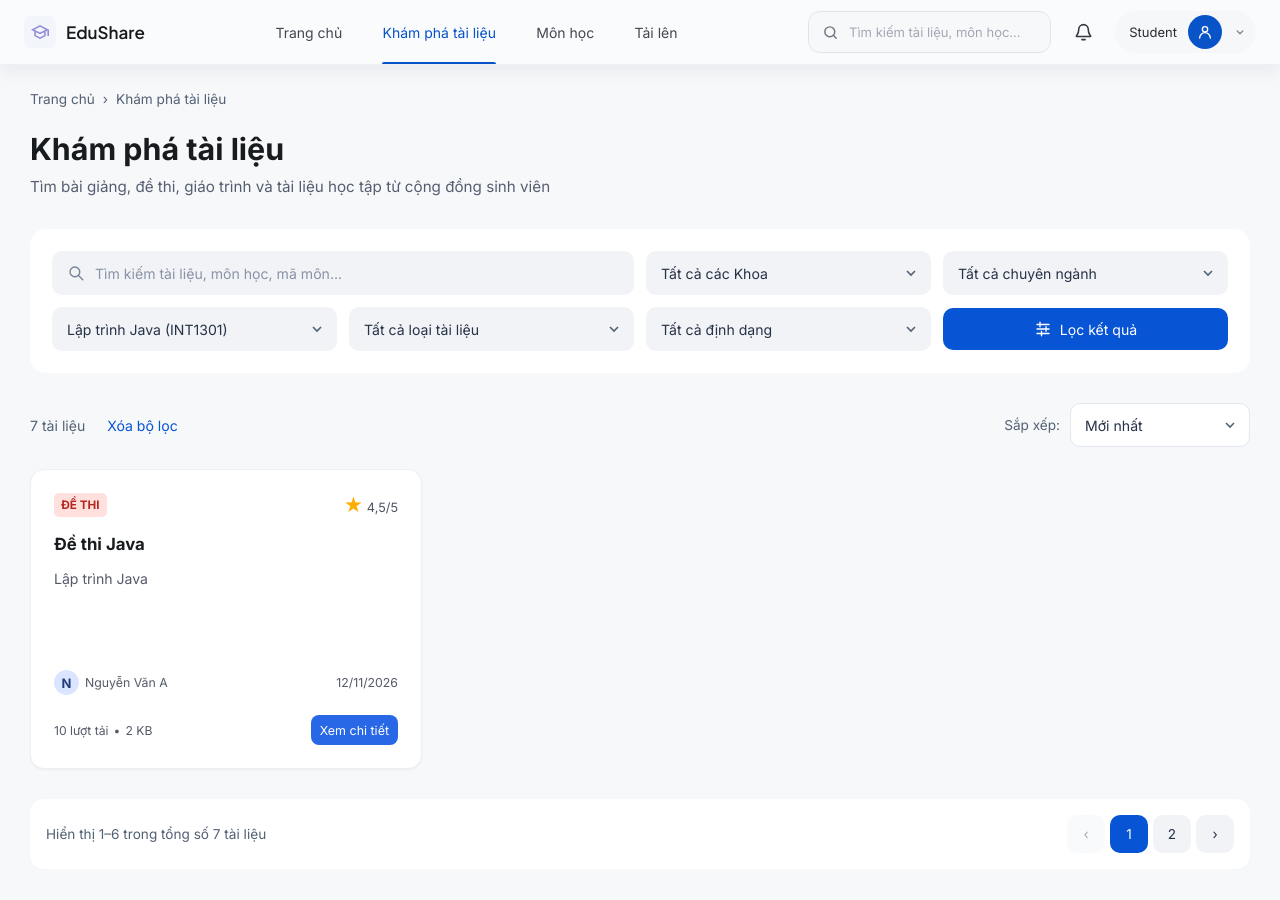
Test case: makes a subject filter from the homepage visible and lets readers clear it
Expected: the dropdown named "Môn học" is enabled, [52, 307, 337, 351]
Expected: the dropdown named "Môn học" shows "Lập trình Java (INT1301)", [52, 307, 337, 351]
Click the button "Xóa bộ lọc" at (142, 425), box [101, 416, 184, 435]
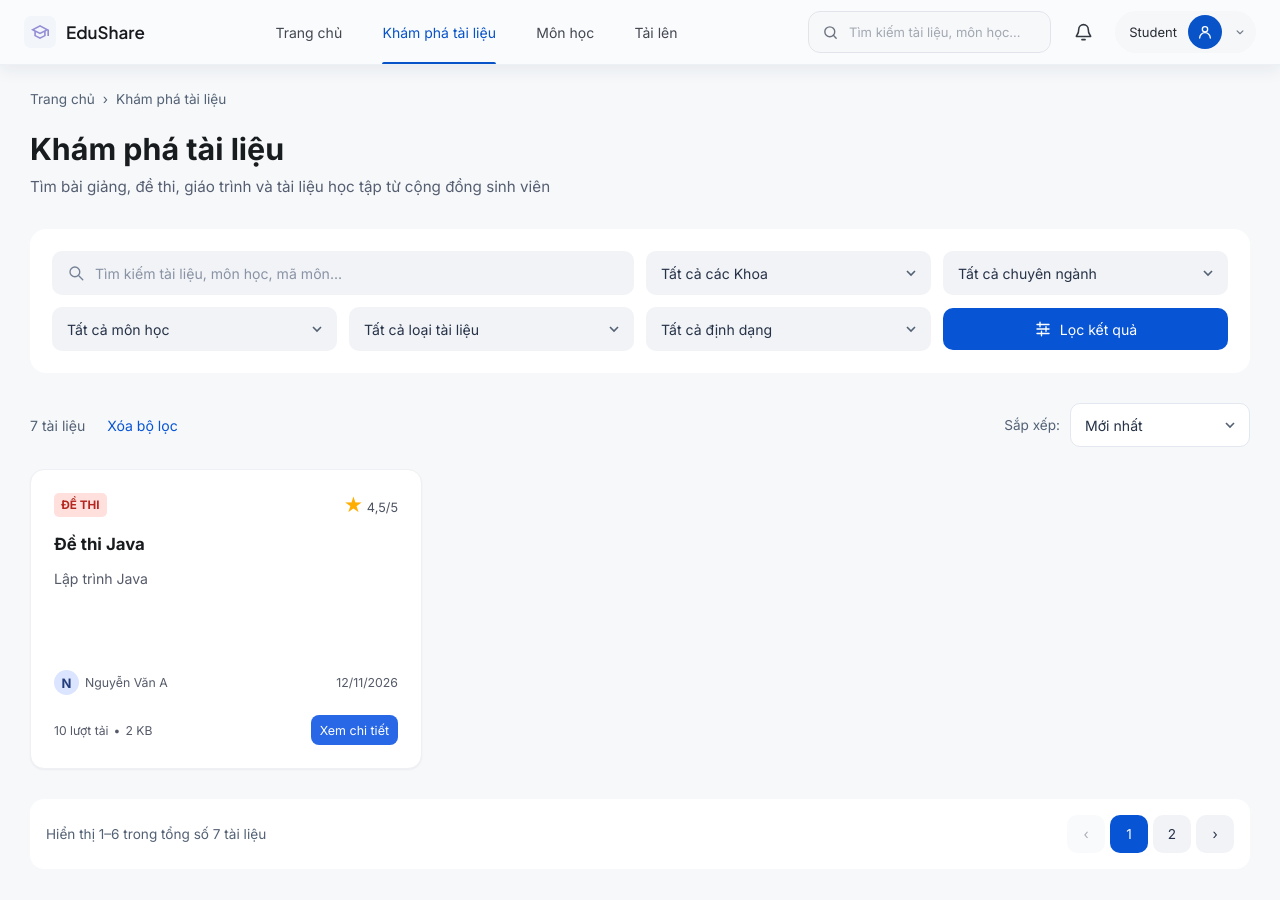
Result: the dropdown named "Môn học" shows "Tất cả môn học" at [52, 307, 337, 351]
